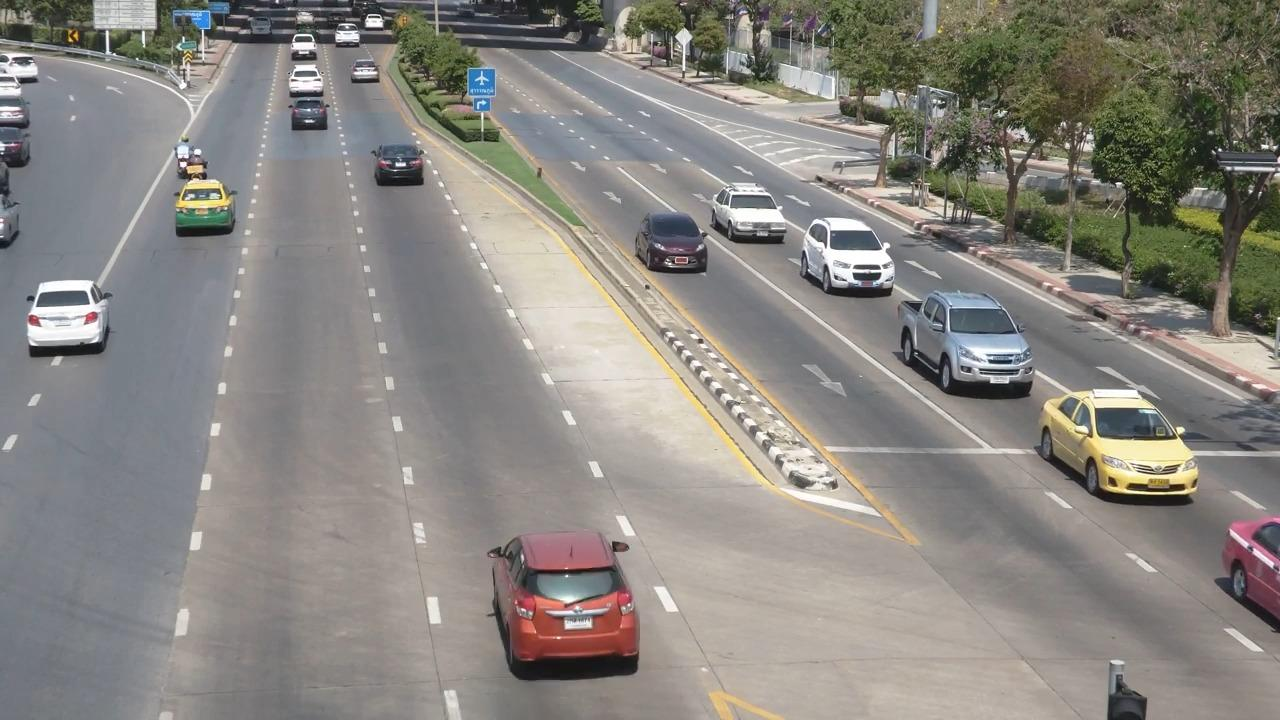CAR: (476, 497, 669, 690), (1037, 371, 1211, 511), (894, 278, 1046, 407), (18, 257, 120, 370), (794, 211, 902, 305), (701, 174, 795, 254), (628, 204, 715, 286), (153, 200, 237, 276), (362, 133, 438, 198), (276, 98, 341, 152), (276, 91, 342, 137), (0, 38, 53, 86), (283, 61, 333, 105), (345, 51, 395, 94), (325, 17, 370, 54), (283, 36, 325, 72), (242, 10, 281, 43), (2, 79, 28, 125), (359, 11, 394, 41), (291, 11, 322, 39)
MOTOR: (163, 129, 197, 176), (181, 150, 214, 192)
